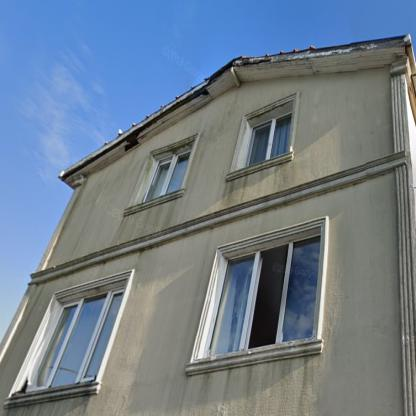window: (206, 232, 320, 356), (30, 287, 124, 389), (244, 112, 291, 167), (142, 150, 191, 202)
